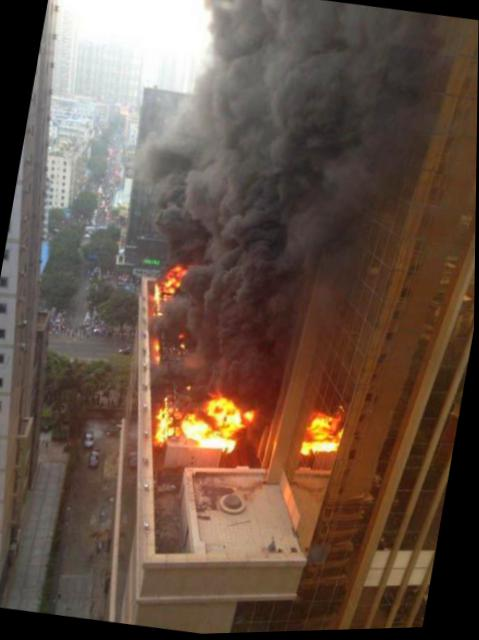fire: (298, 410, 342, 460), (180, 415, 237, 452), (202, 395, 247, 438), (152, 400, 178, 445), (161, 263, 187, 291), (147, 281, 163, 315), (149, 339, 165, 364)
